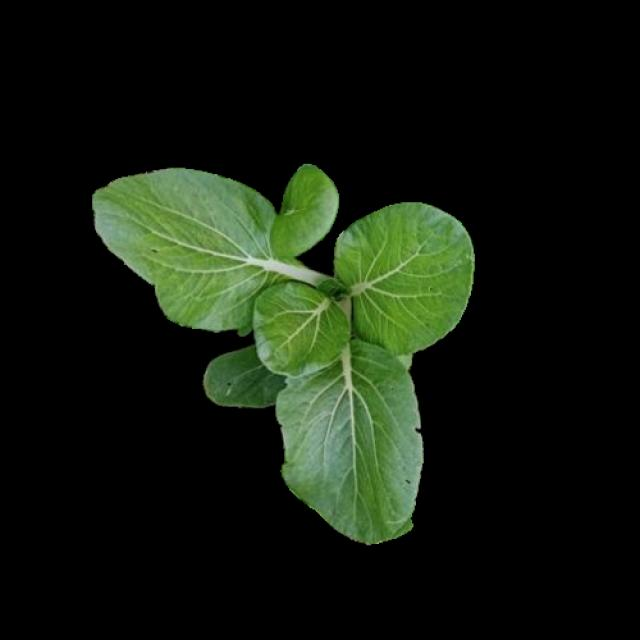healthy: (95, 170, 283, 326)
not-mature: (94, 168, 473, 539)
unhealthy: (278, 344, 422, 534)
